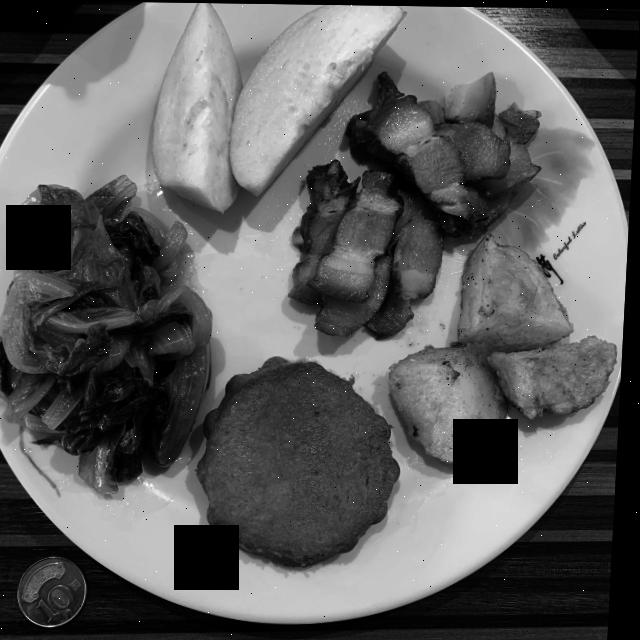Spam: (202, 357, 405, 566)
coin: (23, 558, 93, 628)
fried potato: (393, 233, 620, 462)
grilled pork: (292, 71, 542, 337)
guava -sliced-: (154, 2, 406, 212)
mustard greens: (0, 176, 216, 494)
